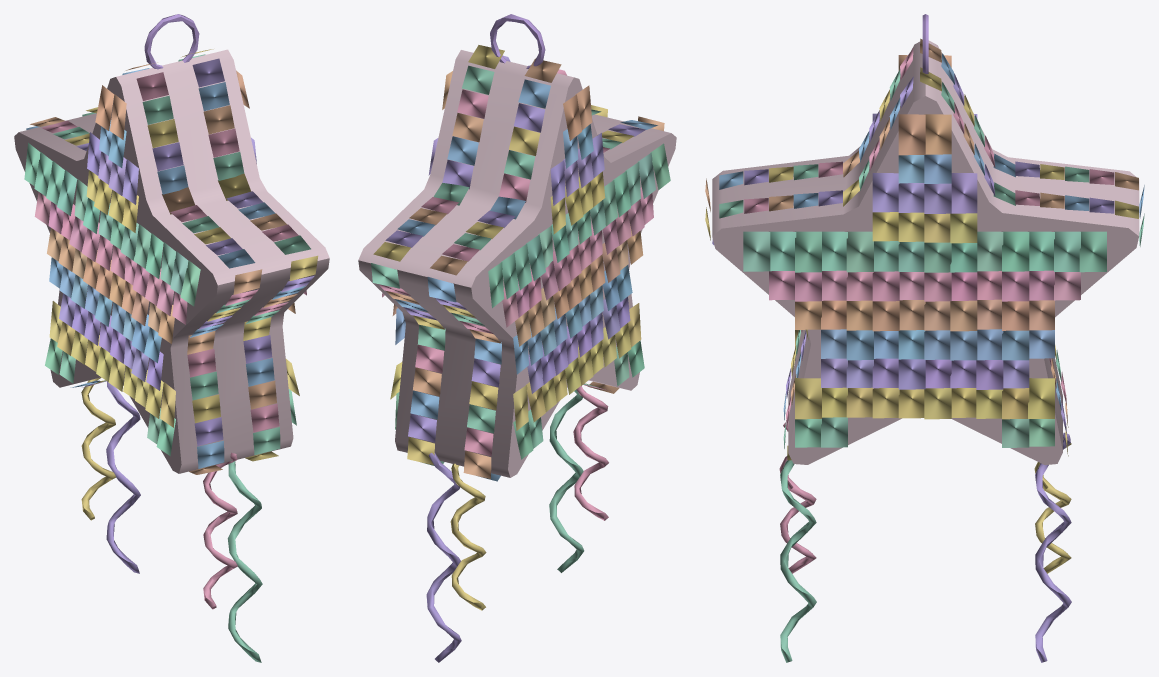
The model's file is W4_PinataStar_lod1.fbx.
3 views of the same model, side by side, from view 1: azimuth 30°, elevation 25°; view 2: azimuth 150°, elevation 25°; view 3: azimuth 270°, elevation 25° (orthographic). The views are drawn at different scales.
Parts seen in each view (by area): view 1: W4_PinataStar.001; view 2: W4_PinataStar.001; view 3: W4_PinataStar.001.
Boxes of the visible parts, x1,y1,x2,y2 form: W4_PinataStar.001: (14, 14, 329, 662); W4_PinataStar.001: (358, 14, 676, 662); W4_PinataStar.001: (705, 14, 1144, 662).
Size of the model in its own units: 0.1293 by 0.5673 by 0.3564.
